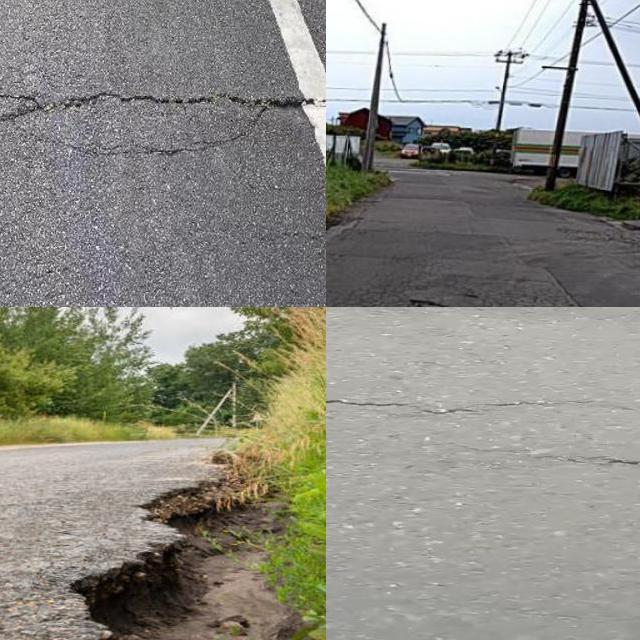Melintang: (0, 81, 326, 133), (326, 384, 525, 424)
Pinggir: (66, 453, 262, 640)
